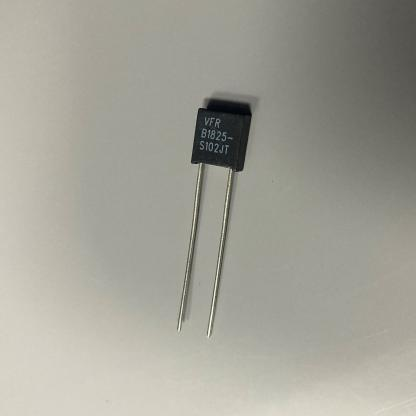SP0000007: (104, 40, 286, 350)
